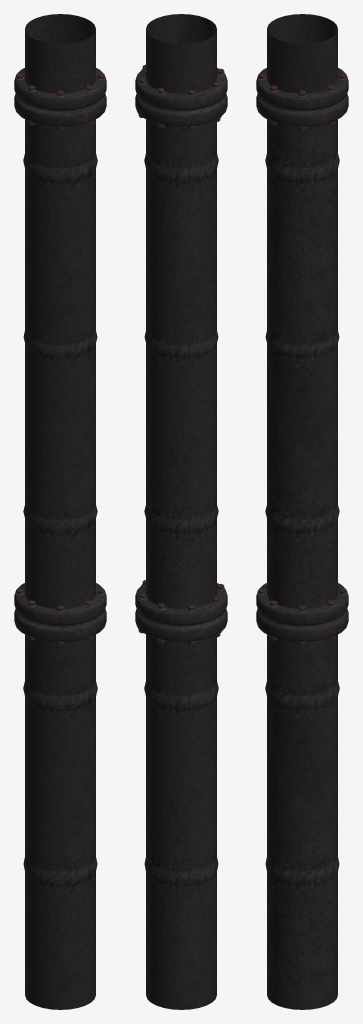
File: pipe_1.obj
3 renders of one model, left to right at view 1: azimuth 90°, elevation 25°; view 2: azimuth 150°, elevation 25°; view 3: azimuth 270°, elevation 25°, orthographic.
Visible parts, largest first — view 1: pipe_1; view 2: pipe_1; view 3: pipe_1.
Part boxes in pixels (x1,y1,x2,y2): pipe_1: (14,14,106,1009); pipe_1: (135,14,227,1009); pipe_1: (256,14,348,1009).
Size of the model in its own units: 0.26 by 3 by 0.26.
